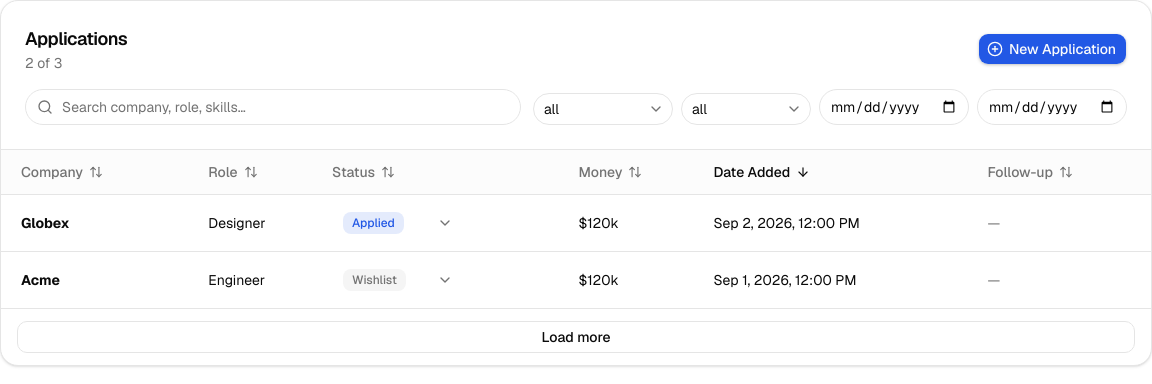
Test: ApplicationsDashboard › loads more rows via the server action
Click the button "Load more".
click(576, 336)  # box [17,320,1135,352]
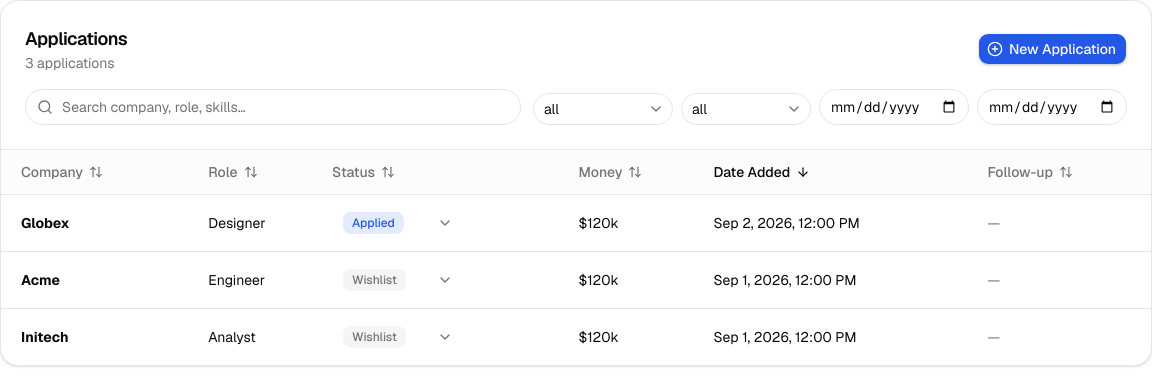
Now the link "Initech" is shown, box [21,328,68,346]
